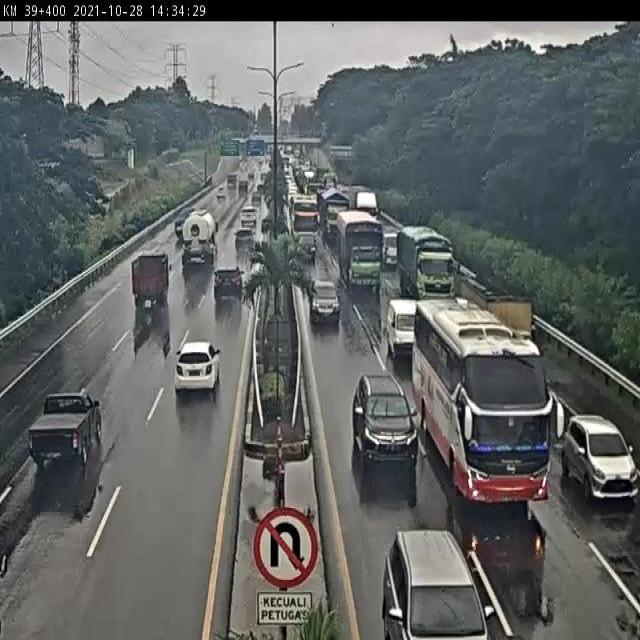big bus: (413, 295, 556, 512)
big truck: (459, 272, 539, 339), (394, 226, 460, 302), (337, 208, 385, 293), (179, 209, 220, 268), (174, 209, 193, 244)
car: (382, 525, 499, 640), (562, 413, 640, 503), (354, 371, 424, 469), (171, 338, 220, 398), (385, 293, 420, 364), (306, 275, 340, 325), (213, 253, 247, 296), (294, 228, 319, 267), (230, 212, 251, 239), (187, 207, 204, 232)
small truck: (129, 251, 171, 308)
